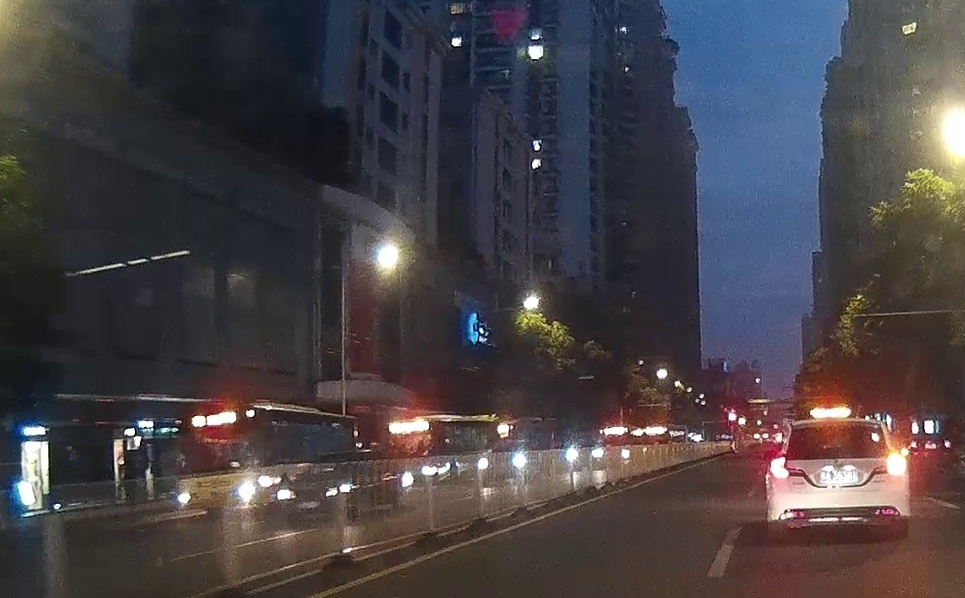L_light: (769, 456, 789, 479)
R_light: (887, 454, 906, 474)
T_light: (827, 427, 846, 432)
night-no: (766, 418, 910, 536)
